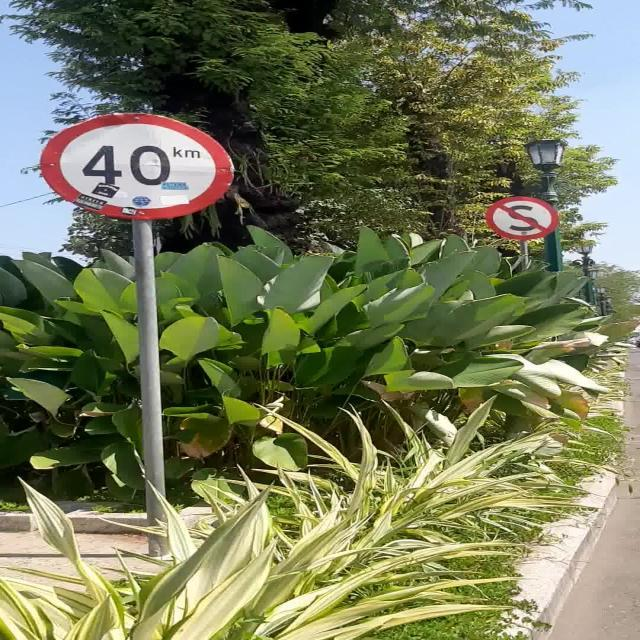Kecepatan Maks. 40 km: (38, 111, 235, 220)
